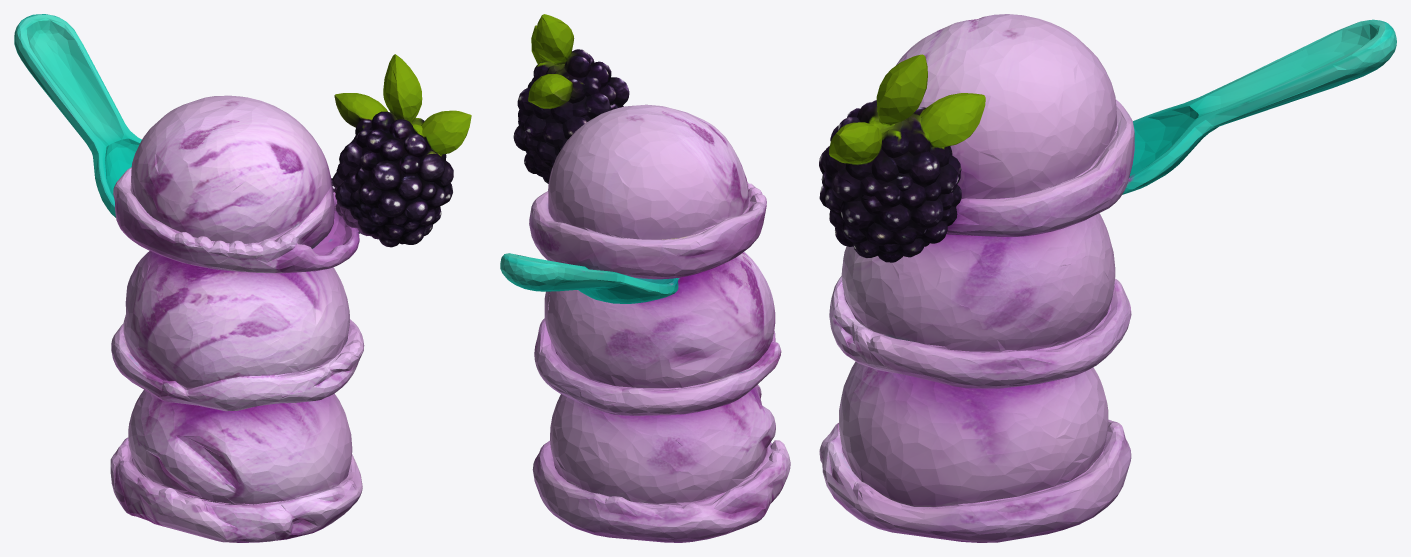
The model's file is Web_IceCream_Blackberry.obj.
3 views of the same model, side by side, from view 1: azimuth 30°, elevation 25°; view 2: azimuth 150°, elevation 25°; view 3: azimuth 270°, elevation 25° (orthographic). The views are drawn at different scales.
Visible parts, largest first — view 1: Web_IceCream_Blackberry; view 2: Web_IceCream_Blackberry; view 3: Web_IceCream_Blackberry.
Part boxes in pixels (x1,y1,x2,y2): Web_IceCream_Blackberry: [14, 14, 471, 542]; Web_IceCream_Blackberry: [500, 14, 790, 542]; Web_IceCream_Blackberry: [819, 14, 1396, 542].
Size of the model in its own units: 0.6517 by 0.9414 by 0.9437.
Materials: 1 (1 with a texture image).
